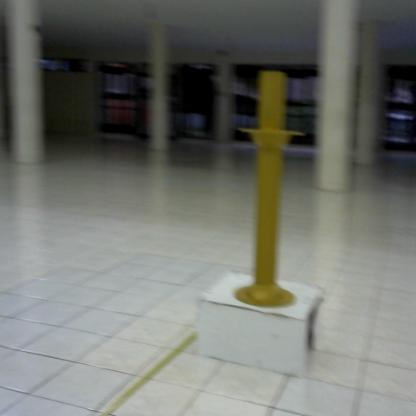pole: (230, 67, 313, 313)
